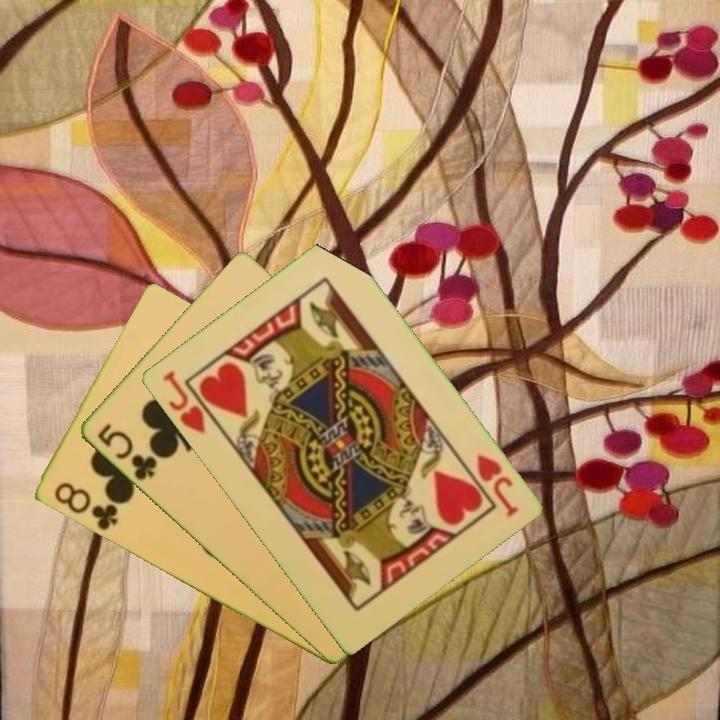5c: (92, 420, 160, 484)
8c: (50, 478, 121, 534)
Jh: (158, 367, 208, 437), (472, 450, 521, 520)
